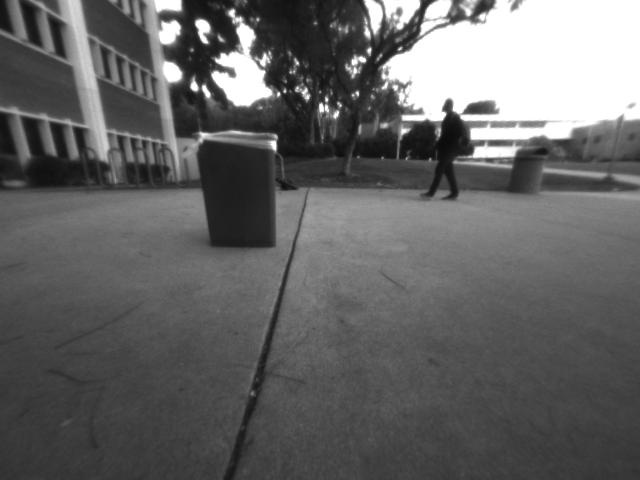trashcan: (192, 122, 286, 248)
